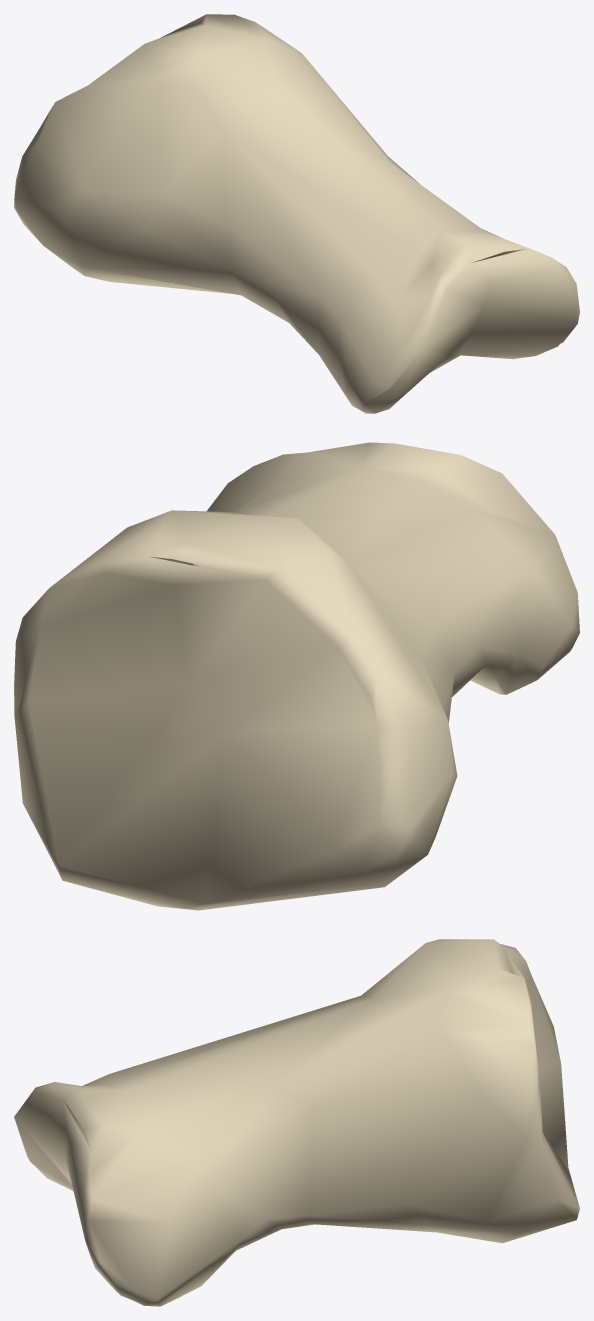
The model's file is esqueleto-proximal-phalanx-of-first-finger-of-foot-l.glb.
3 renders of one model, top to bottom at view 1: azimuth 30°, elevation 25°; view 2: azimuth 150°, elevation 25°; view 3: azimuth 270°, elevation 25°, orthographic. The views are drawn at different scales.
Parts seen in each view (by area): view 1: Proximal phalanx of first finger of foot.l; view 2: Proximal phalanx of first finger of foot.l; view 3: Proximal phalanx of first finger of foot.l.
Part boxes in pixels (box(x1,y1,x2,y2)): Proximal phalanx of first finger of foot.l: box(14, 14, 579, 413); Proximal phalanx of first finger of foot.l: box(14, 442, 579, 910); Proximal phalanx of first finger of foot.l: box(14, 939, 579, 1306).
Bounding box in the file's own units: 0.0261 × 0.0177 × 0.0345.
